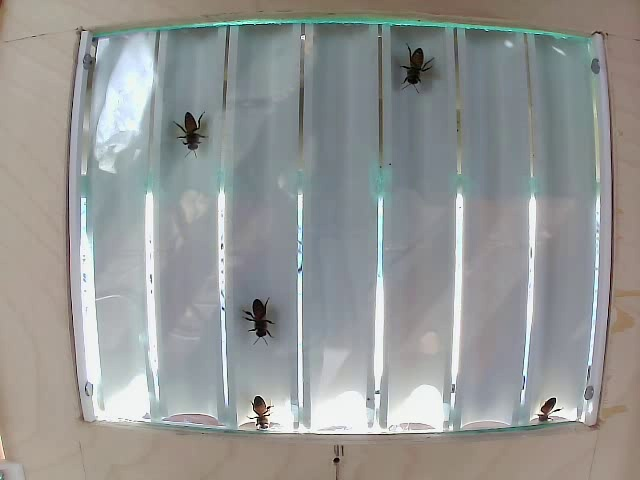bee: (249, 390, 291, 425), (175, 112, 208, 148), (236, 297, 274, 328), (410, 49, 435, 91)
